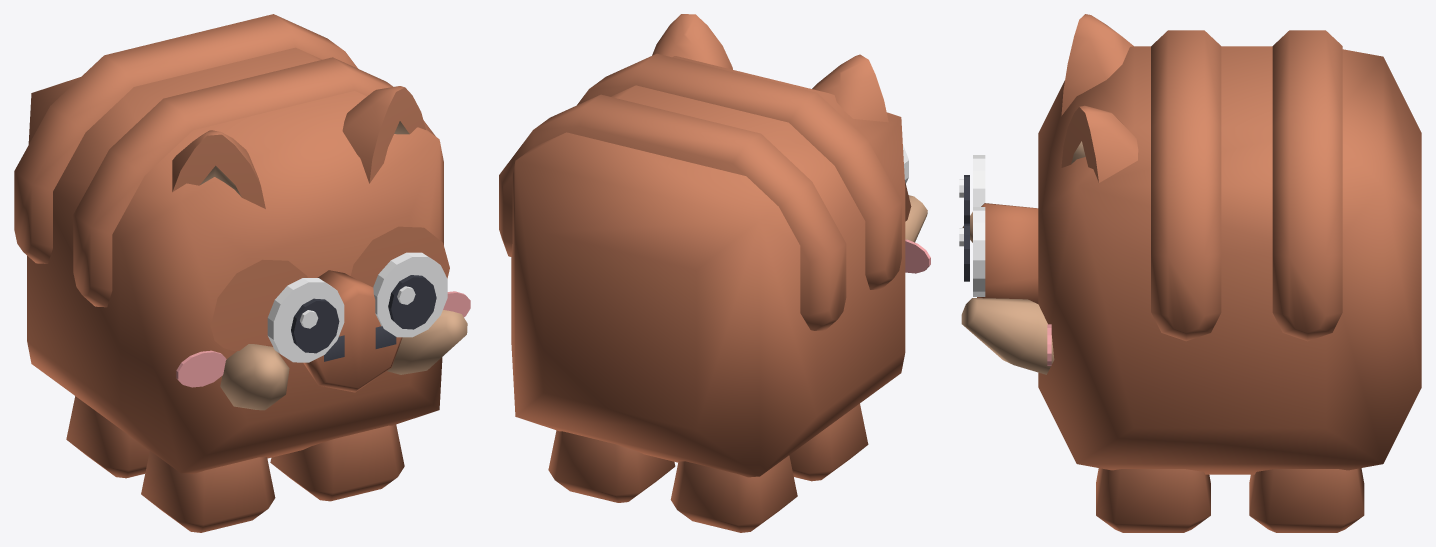
The model's file is hog.glb.
The picture shows the model from 3 angles, left to right: view 1: azimuth 30°, elevation 25°; view 2: azimuth 150°, elevation 25°; view 3: azimuth 270°, elevation 25°; orthographic projection. The views are drawn at different scales.
Visible parts, largest first — view 1: body, leg-front-right, leg-front-left, leg-back-right; view 2: body, leg-back-right, leg-back-left, leg-front-right; view 3: body, leg-back-left, leg-front-left.
Boxes of the visible parts, x1=… form: body: x1=14, y1=14, x2=470, y2=474; leg-front-right: x1=141, y1=451, x2=275, y2=532; leg-front-left: x1=270, y1=424, x2=404, y2=501; leg-back-right: x1=66, y1=396, x2=149, y2=478; body: x1=499, y1=14, x2=930, y2=477; leg-back-right: x1=670, y1=455, x2=797, y2=532; leg-back-left: x1=548, y1=430, x2=675, y2=502; leg-front-right: x1=789, y1=403, x2=868, y2=481; body: x1=959, y1=14, x2=1421, y2=474; leg-back-left: x1=1249, y1=468, x2=1364, y2=532; leg-front-left: x1=1096, y1=468, x2=1210, y2=532.
Size of the model in its own units: 1.35 by 1.52 by 1.51.
1 material, 1 textured.
